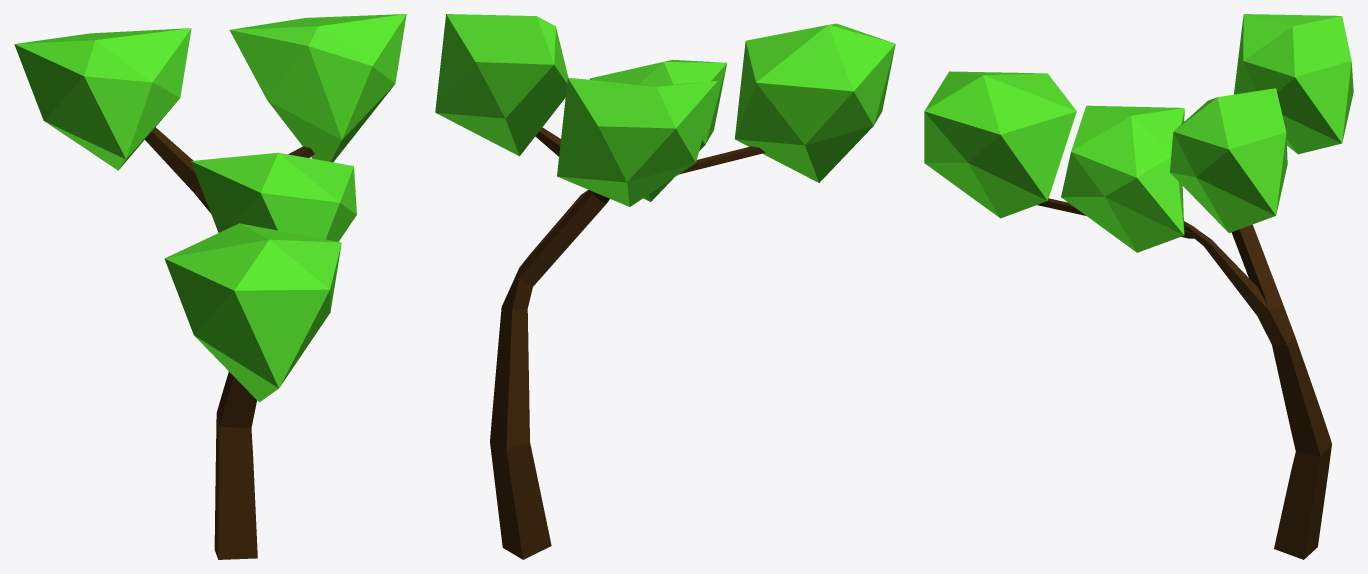
The model's file is tree2.glb.
3 views of the same model, side by side, from view 1: azimuth 30°, elevation 25°; view 2: azimuth 150°, elevation 25°; view 3: azimuth 270°, elevation 25° (orthographic). The views are drawn at different scales.
Parts seen in each view (by area): view 1: Icosphere, Icosphere.001, Icosphere.002, Icosphere.003, Cube; view 2: Icosphere, Icosphere.002, Icosphere.001, Cube, Icosphere.003; view 3: Icosphere, Icosphere.003, Icosphere.001, Cube, Icosphere.002.
Boxes of the visible parts, <box> form: Icosphere: <box>164,223,341,402</box>; Icosphere.001: <box>229,14,406,162</box>; Icosphere.002: <box>14,28,191,170</box>; Icosphere.003: <box>191,152,356,241</box>; Cube: <box>145,127,314,559</box>; Icosphere: <box>735,23,895,182</box>; Icosphere.002: <box>557,78,717,206</box>; Icosphere.001: <box>435,14,568,156</box>; Cube: <box>490,127,765,559</box>; Icosphere.003: <box>590,60,726,201</box>; Icosphere: <box>924,71,1076,218</box>; Icosphere.003: <box>1061,105,1184,252</box>; Icosphere.001: <box>1170,88,1287,232</box>; Cube: <box>1037,198,1331,559</box>; Icosphere.002: <box>1234,14,1353,154</box>.
Bounding box in the file's own units: 2.19 × 3.33 × 2.77.
